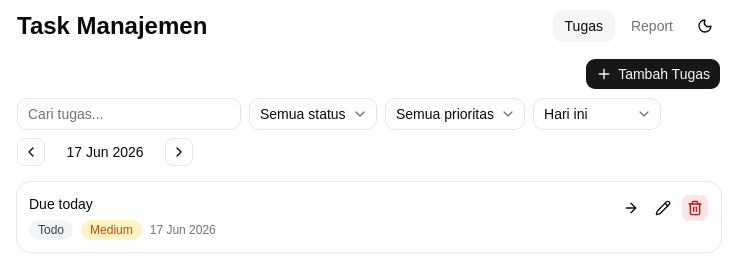
Test: HomePage › explains when nothing is due in the shifted period
Click the button named "Berikutnya".
click(179, 152)  # box [165,138,193,166]
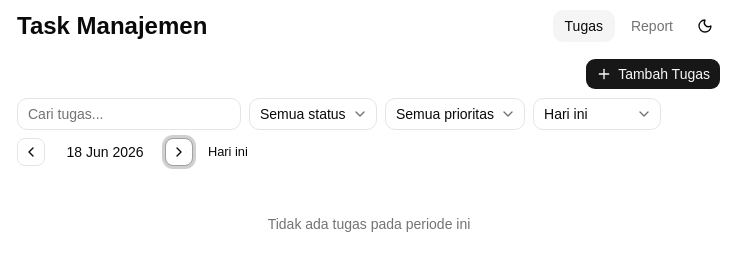
Check: the text "Tidak ada tugas pada periode ini" is shown, box [268,216,470,232]
